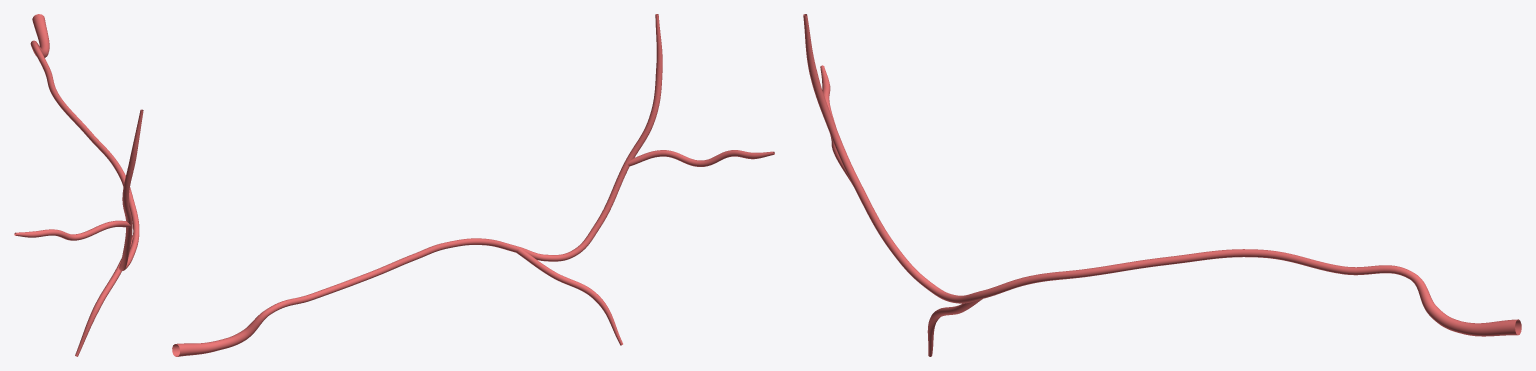
File: Supratrochlear_artery.l_BezierCurve.363.glb
The picture shows the model from 3 angles, left to right: view 1: azimuth 30°, elevation 25°; view 2: azimuth 150°, elevation 25°; view 3: azimuth 270°, elevation 25°; orthographic projection. The views are drawn at different scales.
Parts seen in each view (by area): view 1: Supratrochlear_artery.l_BezierCurve.363; view 2: Supratrochlear_artery.l_BezierCurve.363; view 3: Supratrochlear_artery.l_BezierCurve.363.
Part boxes in pixels (<box>): Supratrochlear_artery.l_BezierCurve.363: <box>14,14,143,356</box>; Supratrochlear_artery.l_BezierCurve.363: <box>172,14,774,356</box>; Supratrochlear_artery.l_BezierCurve.363: <box>803,14,1521,356</box>.
Size of the model in its own units: 0.0221 by 0.0193 by 0.0357.
